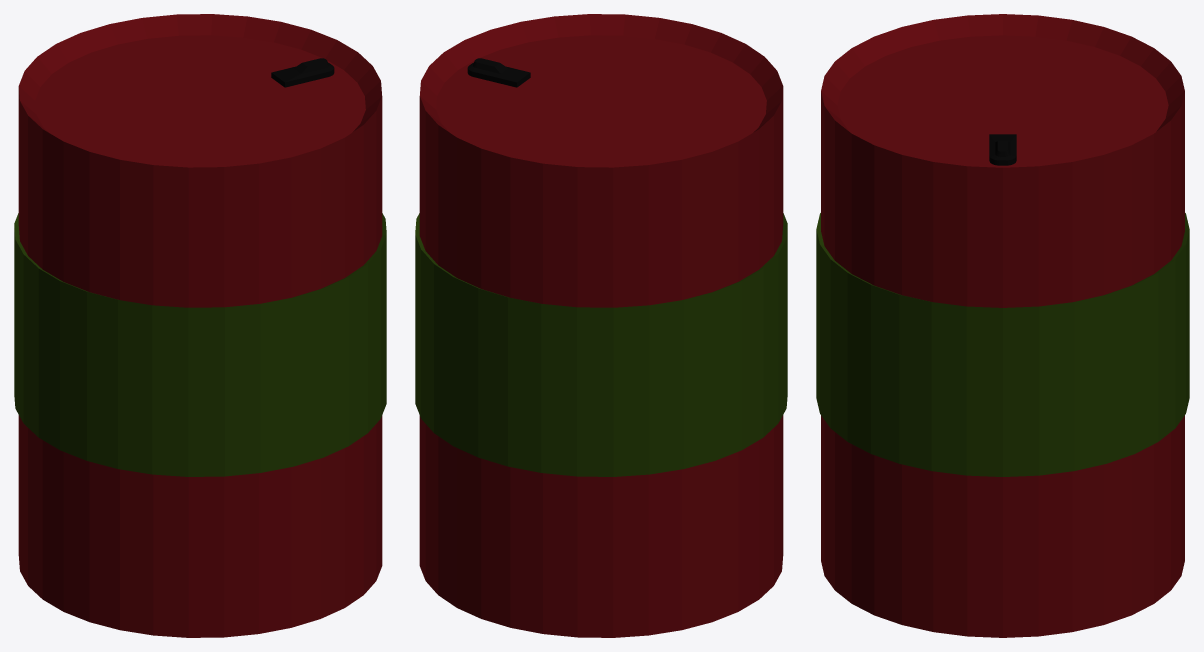
File: Barrel_01.fbx
The picture shows the model from 3 angles, left to right: view 1: azimuth 30°, elevation 25°; view 2: azimuth 150°, elevation 25°; view 3: azimuth 270°, elevation 25°; orthographic projection.
Parts seen in each view (by area): view 1: Barrel_01; view 2: Barrel_01; view 3: Barrel_01.
Part boxes in pixels (box(x1,y1,x2,y2)): Barrel_01: box(14, 14, 386, 637); Barrel_01: box(415, 14, 787, 637); Barrel_01: box(816, 14, 1189, 637).
Size of the model in its own units: 205 by 285 by 205.
